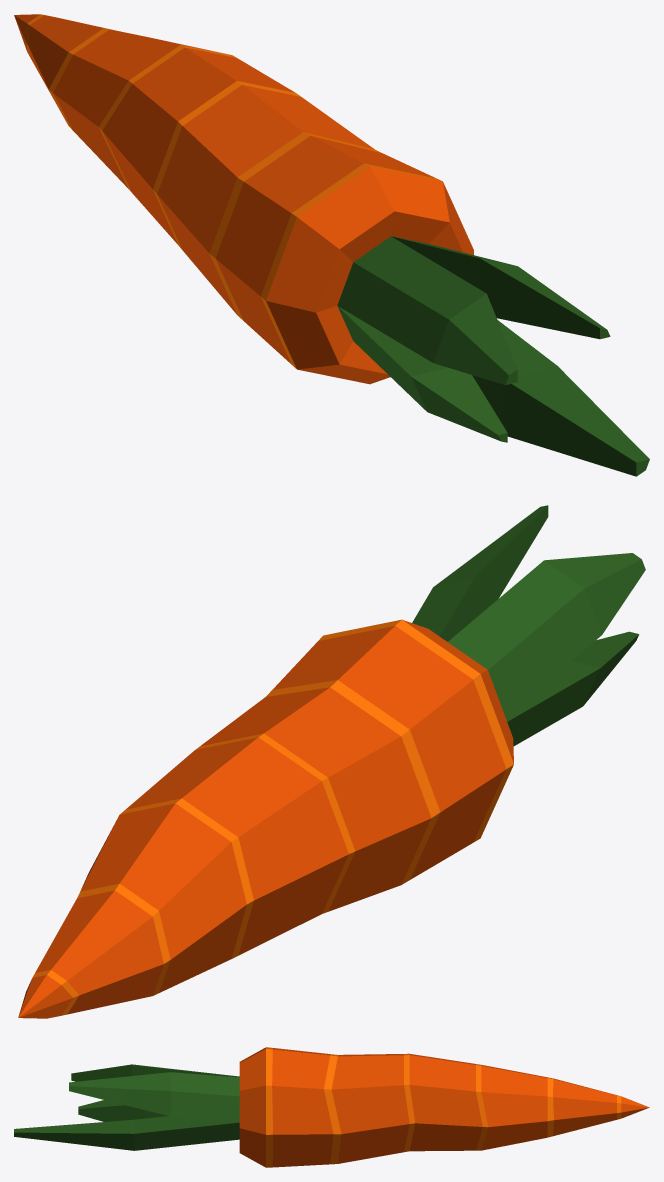
Rendered from Carroot.fbx.
3 renders of one model, top to bottom at view 1: azimuth 30°, elevation 25°; view 2: azimuth 150°, elevation 25°; view 3: azimuth 270°, elevation 25°, orthographic. The views are drawn at different scales.
Visible parts, largest first — view 1: Cube; view 2: Cube; view 3: Cube.
Boxes of the visible parts, <box> form: Cube: <box>14,14,649,476</box>; Cube: <box>18,505,645,1018</box>; Cube: <box>14,1047,649,1167</box>.
Size of the model in its own units: 90.26 by 90.26 by 443.
